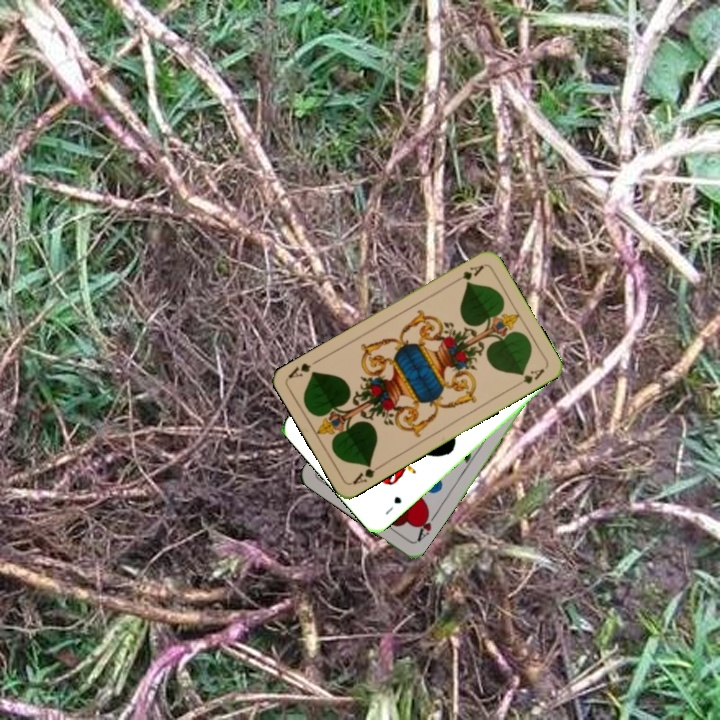GA: (348, 459, 385, 487), (449, 261, 486, 286)
GU: (381, 492, 404, 518)
HA: (413, 507, 440, 544)
